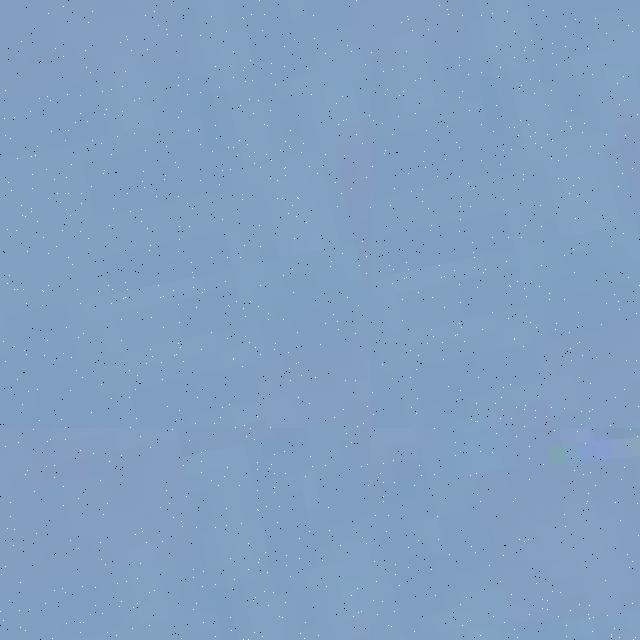drone: (371, 428, 640, 640)
